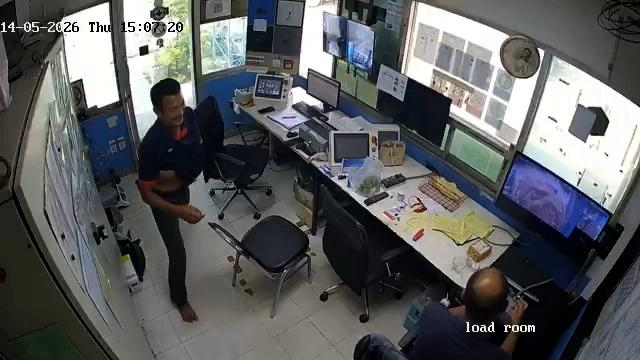Head: (462, 268, 508, 321), (149, 79, 187, 123)
People: (140, 78, 211, 325), (353, 265, 526, 360)
Phone: (257, 106, 276, 115)
